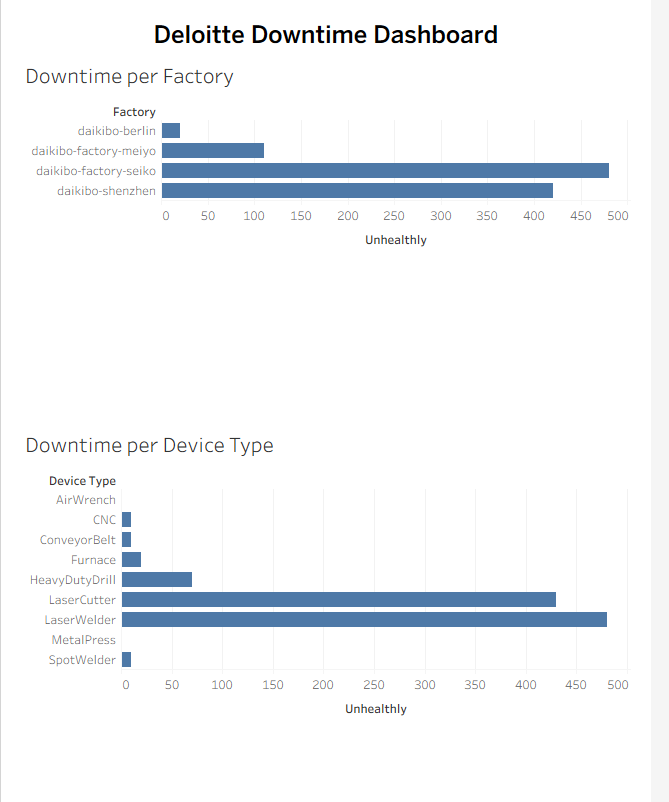

Layout of this report page (visuals, bound fields, positions):
{"tool":"tableau","page":{"name":"Dashboard 1","canvas":[650,860],"ordinal":0},"visuals":[{"type":"title","box":[16,17,618,39.4]},{"type":"worksheet","title":"Downtime per Factory","mark":"Automatic","rows":["factory"],"cols":["Calculation_1218568239194112"],"box":[16,56.5,618,393.2]},{"type":"worksheet","title":"Downtime per Device Type","mark":"Automatic","rows":["deviceType"],"cols":["Calculation_1218568239194112"],"box":[16,449.7,618,393.2]}]}

Visuals, with their boxes on the page's 650x860 design canvas (x1, y1, x2, y2). These are canvas units, not pixel positions in the 669x802 screenshot, which may show the page scaled, cropped or inside an application window:
title: (16, 17, 634, 56)
"Downtime per Factory" worksheet: (16, 56, 634, 450)
"Downtime per Device Type" worksheet: (16, 450, 634, 843)
